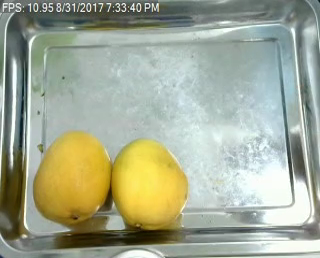Mango: (34, 132, 112, 224), (113, 140, 188, 228)
